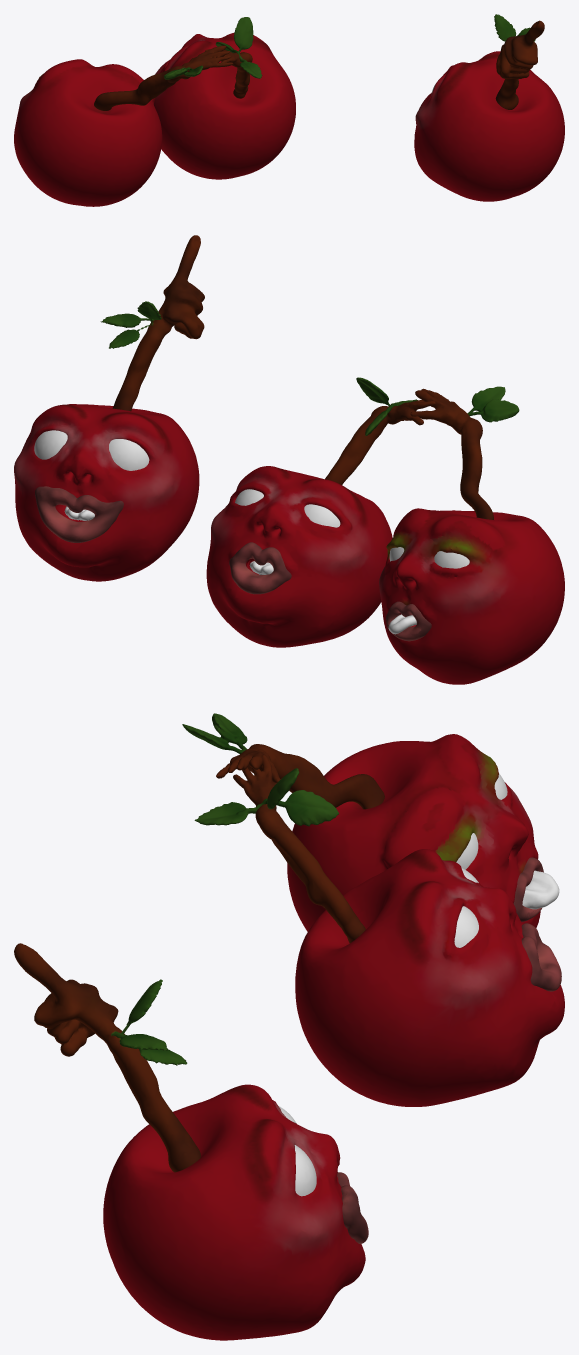
File: cherry3x 1.fbx
3 renders of one model, top to bottom at view 1: azimuth 30°, elevation 25°; view 2: azimuth 150°, elevation 25°; view 3: azimuth 270°, elevation 25°, orthographic. The views are drawn at different scales.
Visible parts, largest first — view 1: chery (×3), Ebene_6 (×3), Ebene_7; view 2: chery (×3), Ebene_6 (×3), lip (×3), eye (×3), Ebene_7; view 3: chery (×3), Ebene_6 (×3), Ebene_7, lip (×3), eye (×2), Ebene_5.
Part boxes in pixels (x1,y1,x2,y2): chery (×3): (14, 33, 564, 206); Ebene_6 (×3): (94, 14, 544, 110); Ebene_7: (164, 17, 262, 79); chery (×3): (14, 404, 564, 684); Ebene_6 (×3): (100, 235, 493, 519); lip (×3): (35, 486, 431, 641); eye (×3): (34, 430, 469, 568); Ebene_7: (356, 377, 519, 435); chery (×3): (103, 734, 564, 1340); Ebene_6 (×3): (14, 744, 384, 1172); Ebene_7: (182, 713, 338, 826); lip (×3): (337, 857, 561, 1243); eye (×2): (278, 868, 478, 1196); Ebene_5: (522, 870, 559, 909).
Size of the model in its own units: 1.04 by 0.6112 by 0.4567.
